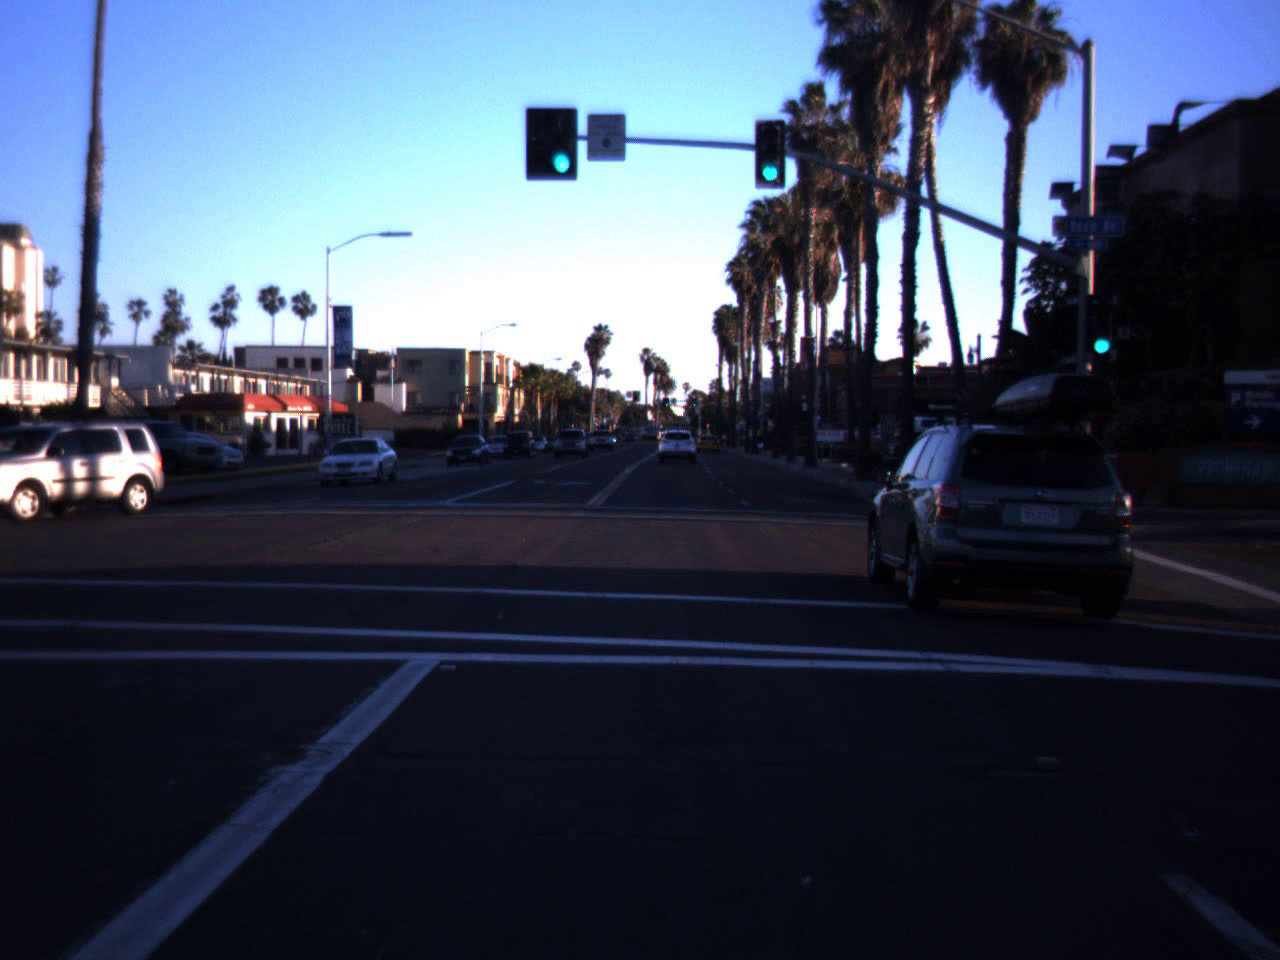go: (542, 100, 581, 179), (749, 121, 791, 186), (1084, 302, 1120, 357)
